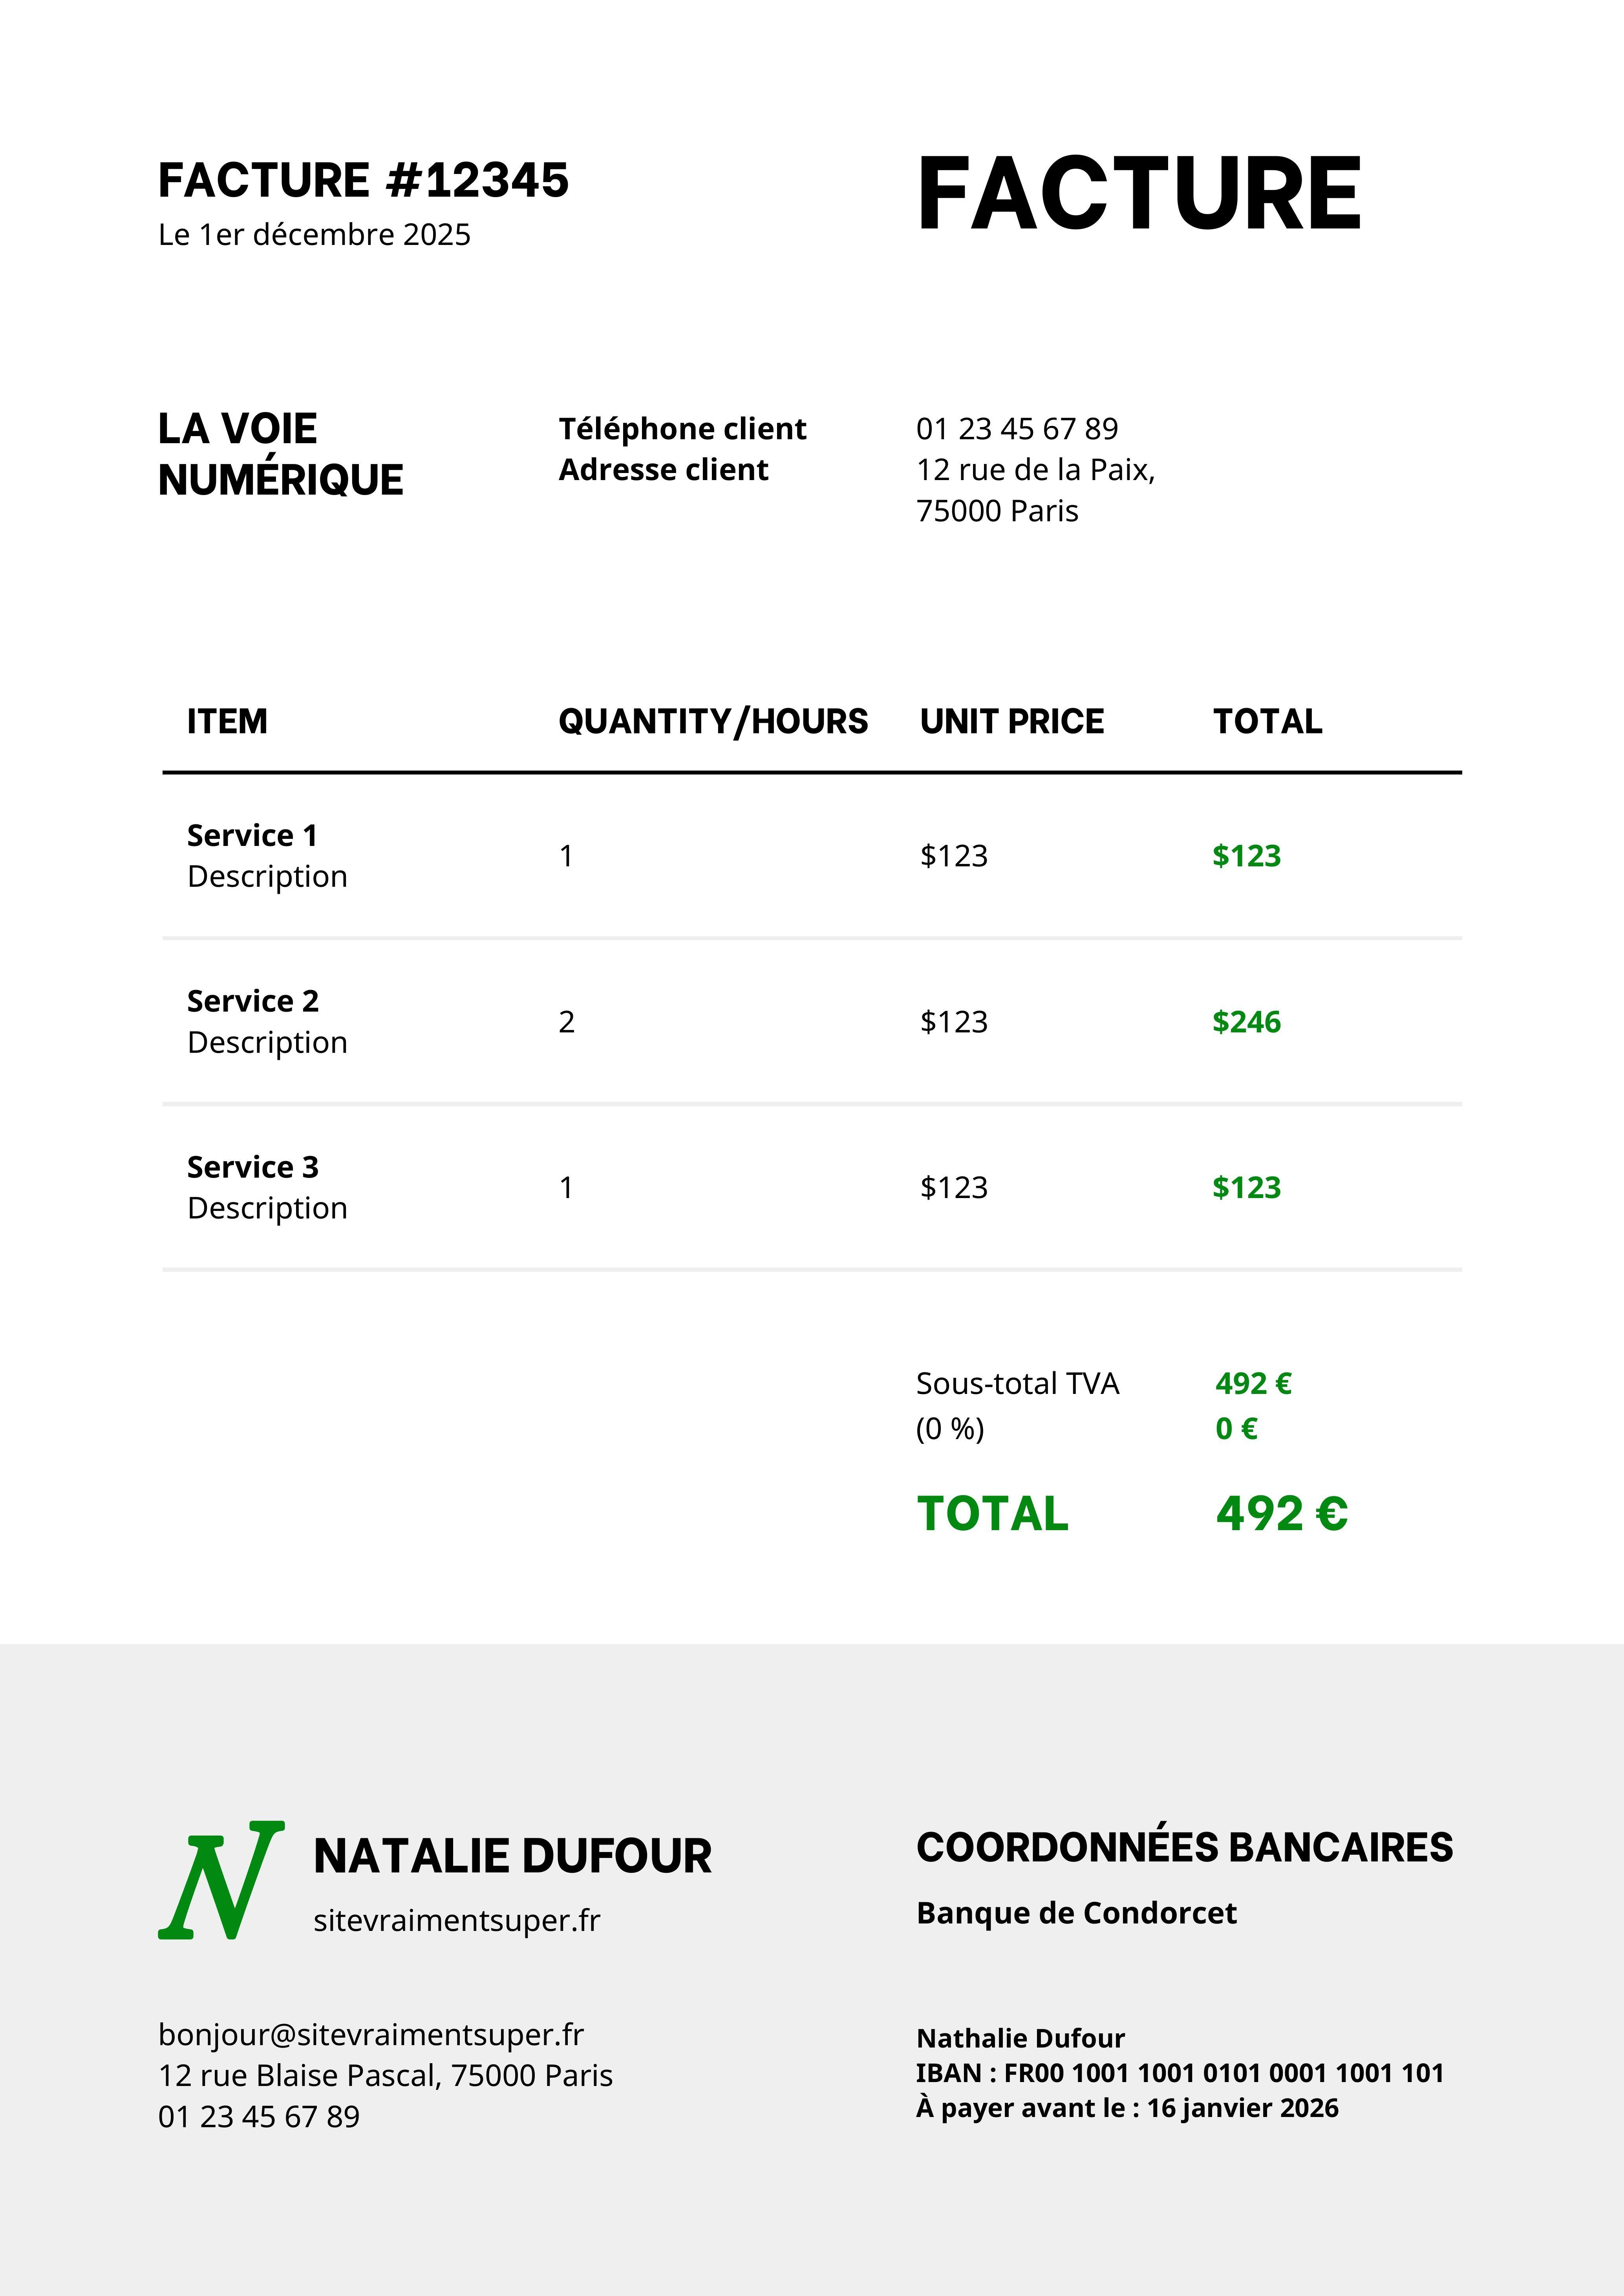ROI: (173, 687, 1343, 1240), (137, 1802, 734, 2157), (897, 1823, 1486, 2149), (147, 385, 1170, 538), (907, 1358, 1382, 1554), (151, 155, 581, 263)
